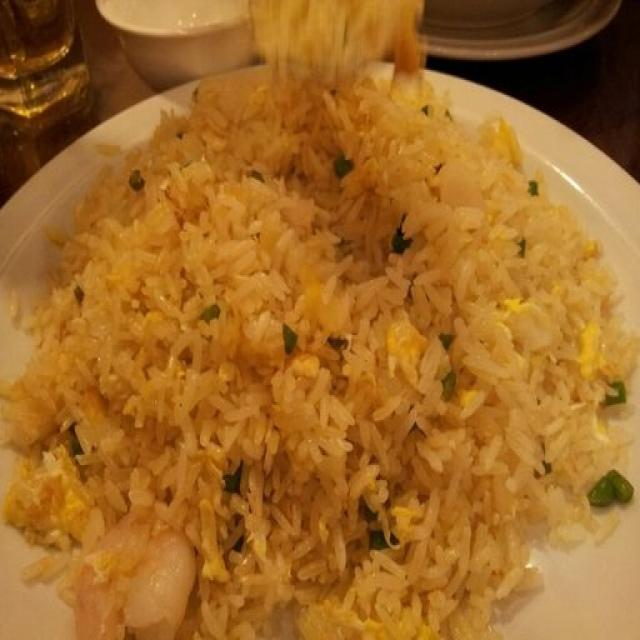Rice: (0, 55, 640, 640)
